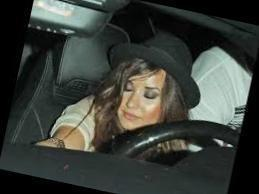Drunk: (121, 64, 166, 126)
